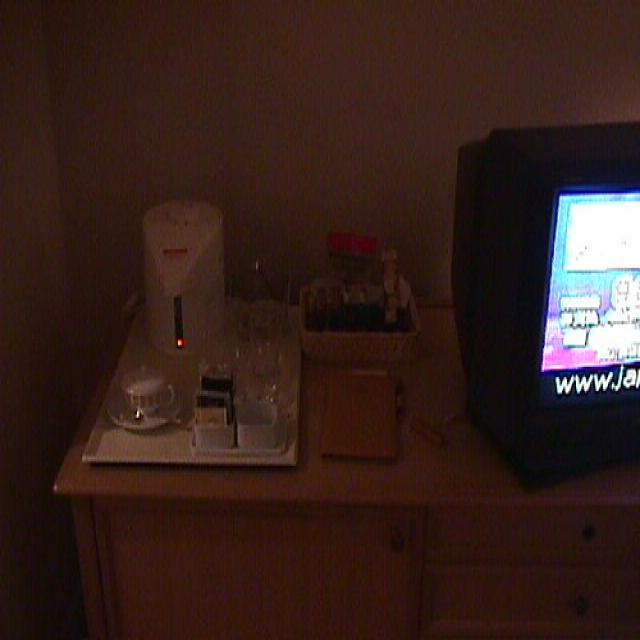Cup: (216, 288, 305, 371), (115, 360, 190, 447), (246, 246, 298, 320)
Table: (50, 246, 640, 640)
